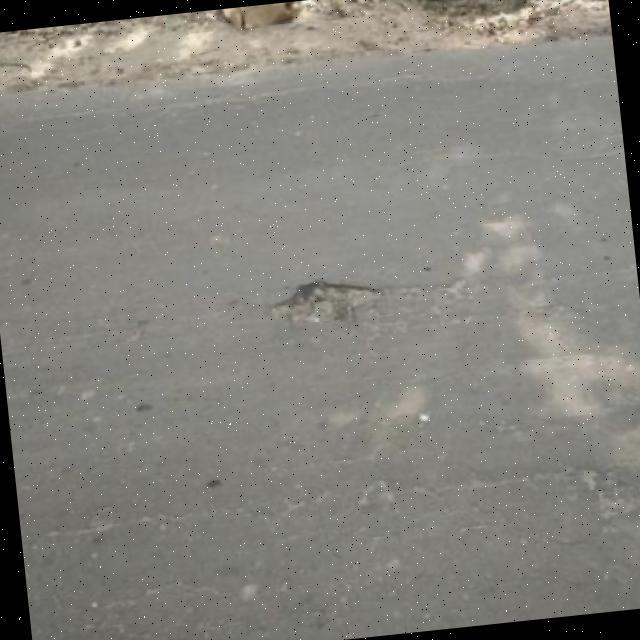Pothole: (271, 280, 390, 328)
